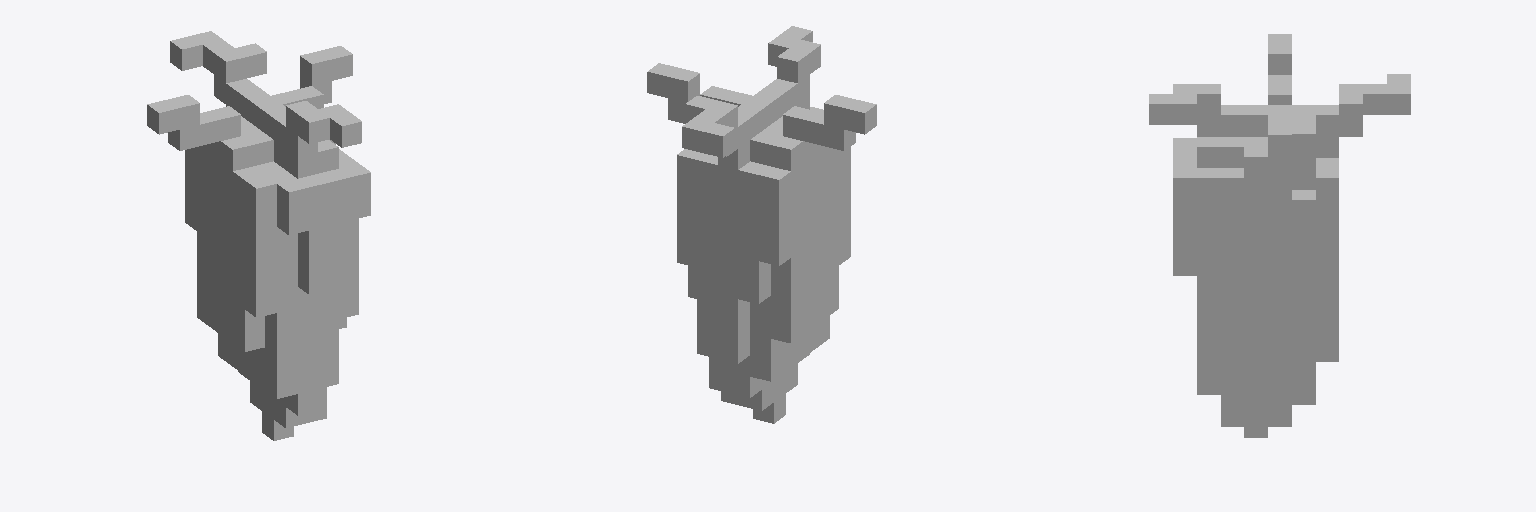
Rendered from carrot.obj.
3 views of the same model, side by side, from view 1: azimuth 30°, elevation 25°; view 2: azimuth 150°, elevation 25°; view 3: azimuth 270°, elevation 25° (orthographic).
Visible parts, largest first — view 1: carrot; view 2: carrot; view 3: carrot.
Part boxes in pixels (bbox=[...]): carrot: bbox=[147, 31, 370, 440]; carrot: bbox=[647, 26, 876, 423]; carrot: bbox=[1149, 34, 1410, 437].
Bounding box in the file's own units: 1 × 1.6 × 1.1.